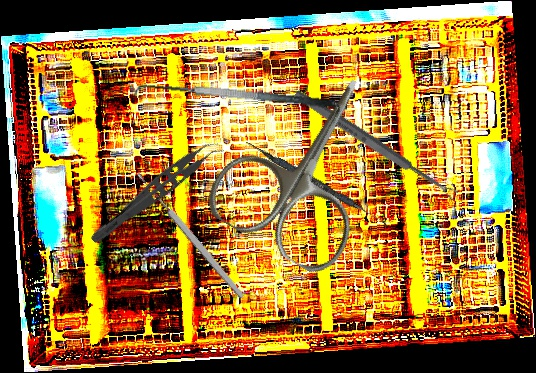Iris Scissors: (197, 44, 421, 282)
Spatula Surgical: (243, 139, 391, 228), (133, 73, 348, 128)
Surgical Spoon: (292, 87, 459, 203), (134, 170, 247, 301)
Tissue Forceps: (87, 132, 227, 256)
